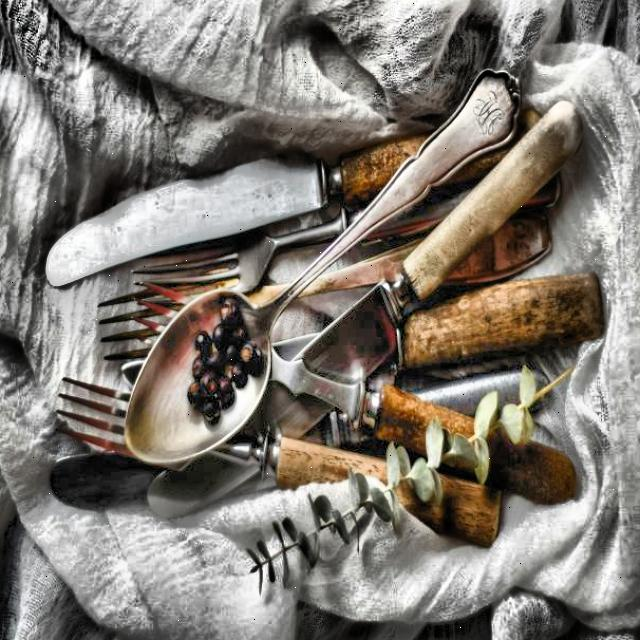knife: (37, 106, 543, 292)
